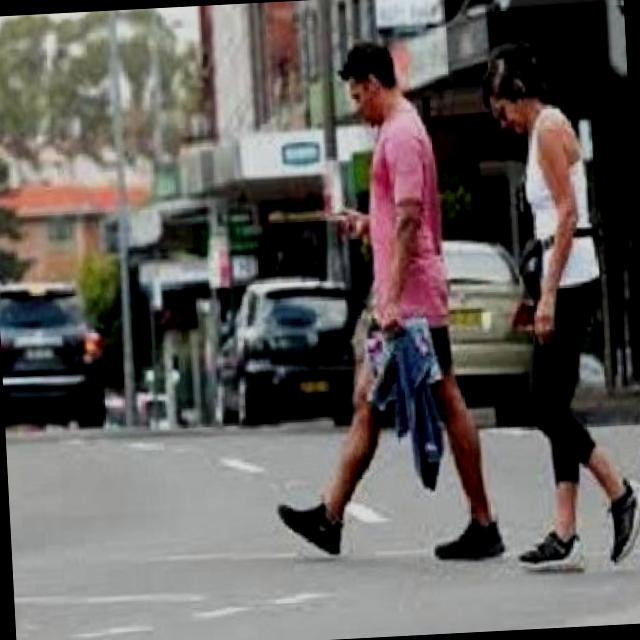Person: (266, 29, 498, 568), (463, 25, 640, 570)
